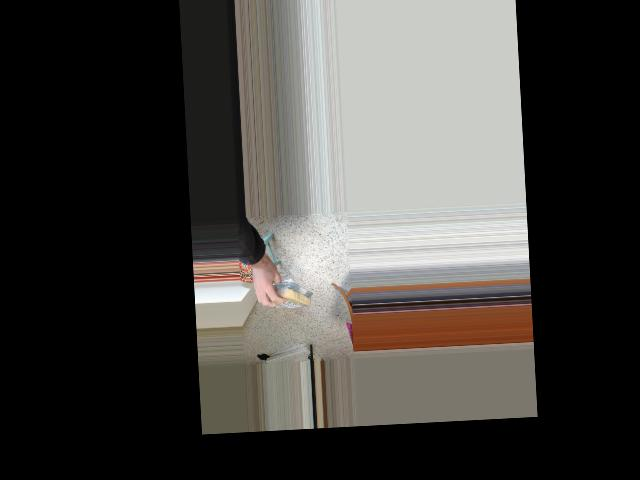cheese: (266, 284, 313, 310)
